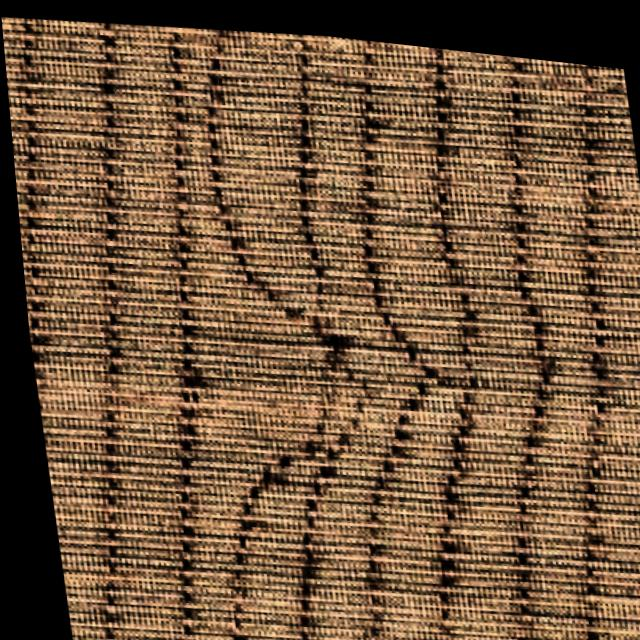Stitch: (163, 167, 454, 556)
